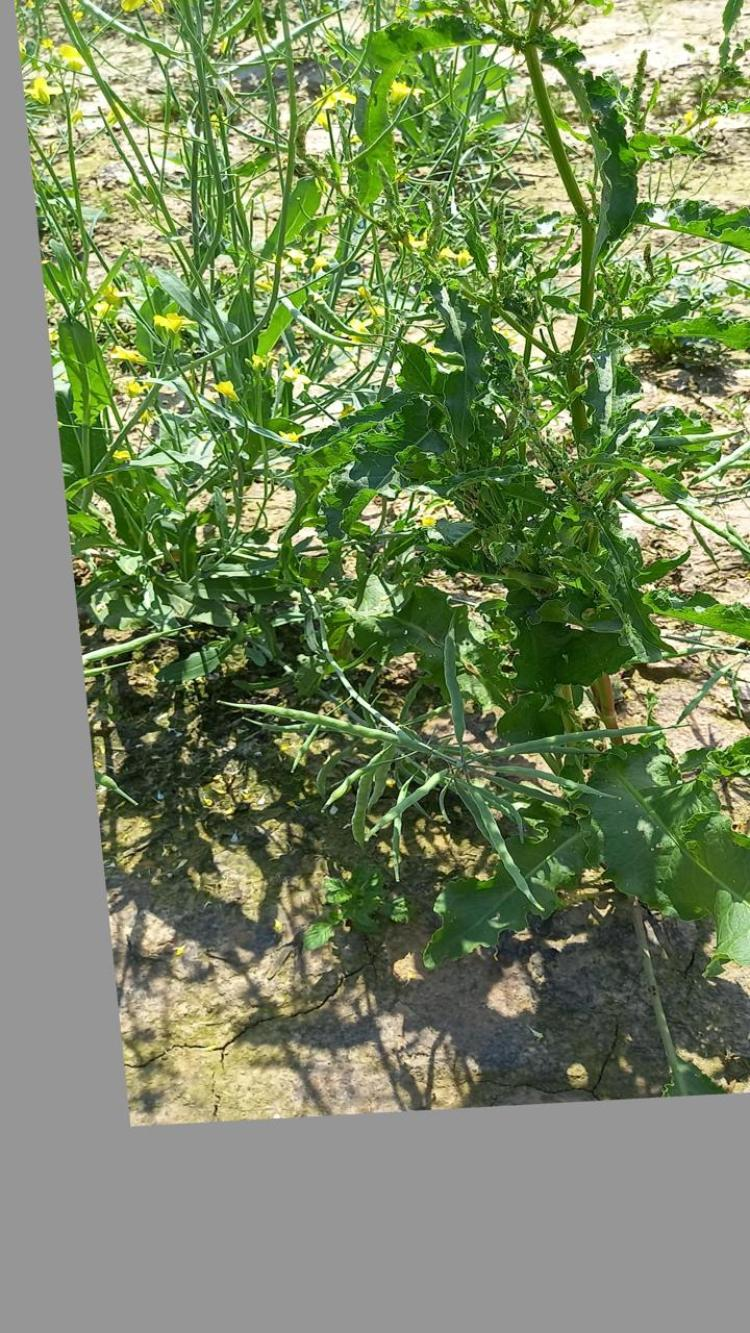zhavel: (325, 81, 750, 998)
